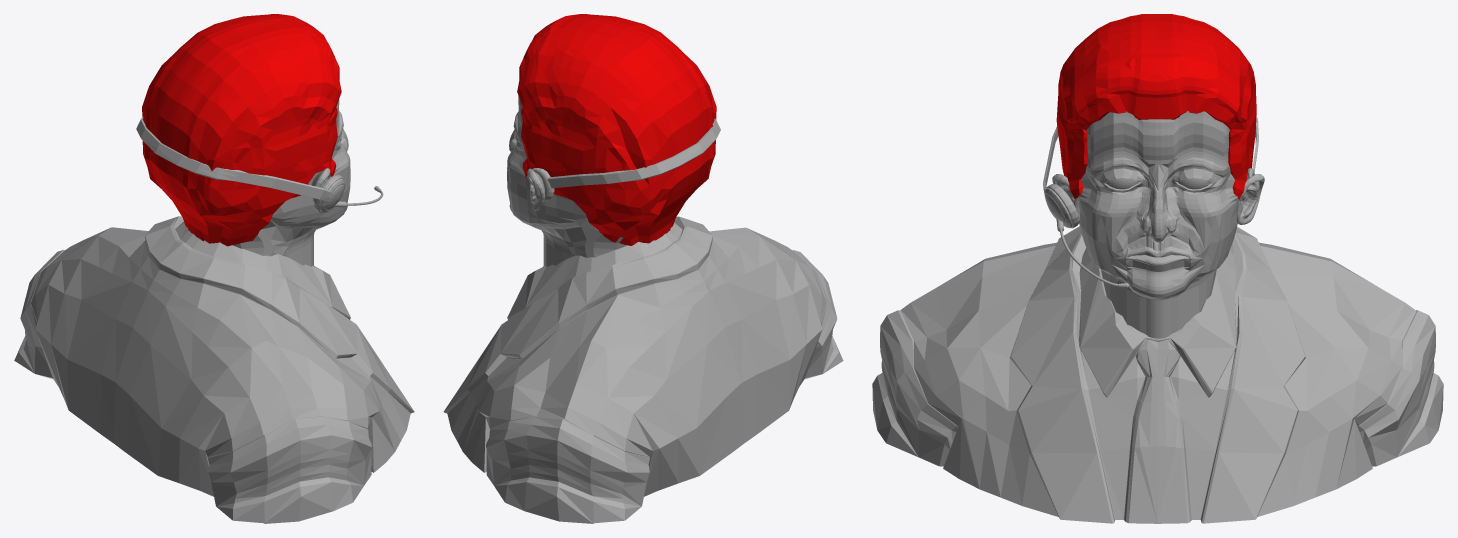
File: Engelbart_Lowpoly.fbx
The picture shows the model from 3 angles, left to right: view 1: azimuth 30°, elevation 25°; view 2: azimuth 150°, elevation 25°; view 3: azimuth 270°, elevation 25°; orthographic projection. The views are drawn at different scales.
Visible parts, largest first — view 1: Engelbart_low; view 2: Engelbart_low; view 3: Engelbart_low.
Part boxes in pixels (x1,y1,x2,y2): Engelbart_low: [14, 14, 414, 523]; Engelbart_low: [443, 14, 843, 523]; Engelbart_low: [872, 14, 1443, 523].
Size of the model in its own units: 0.0739 by 0.1008 by 0.1221.
